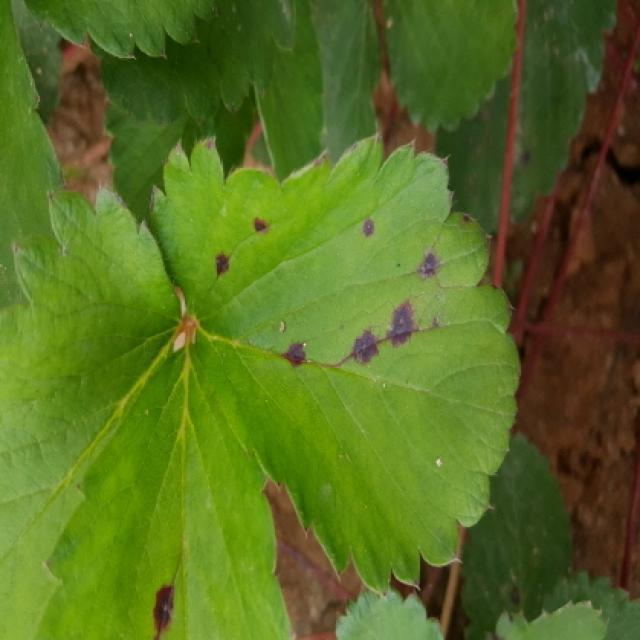Leaf Spot: (147, 132, 521, 597), (32, 327, 296, 638), (435, 0, 620, 234), (457, 428, 574, 638)
